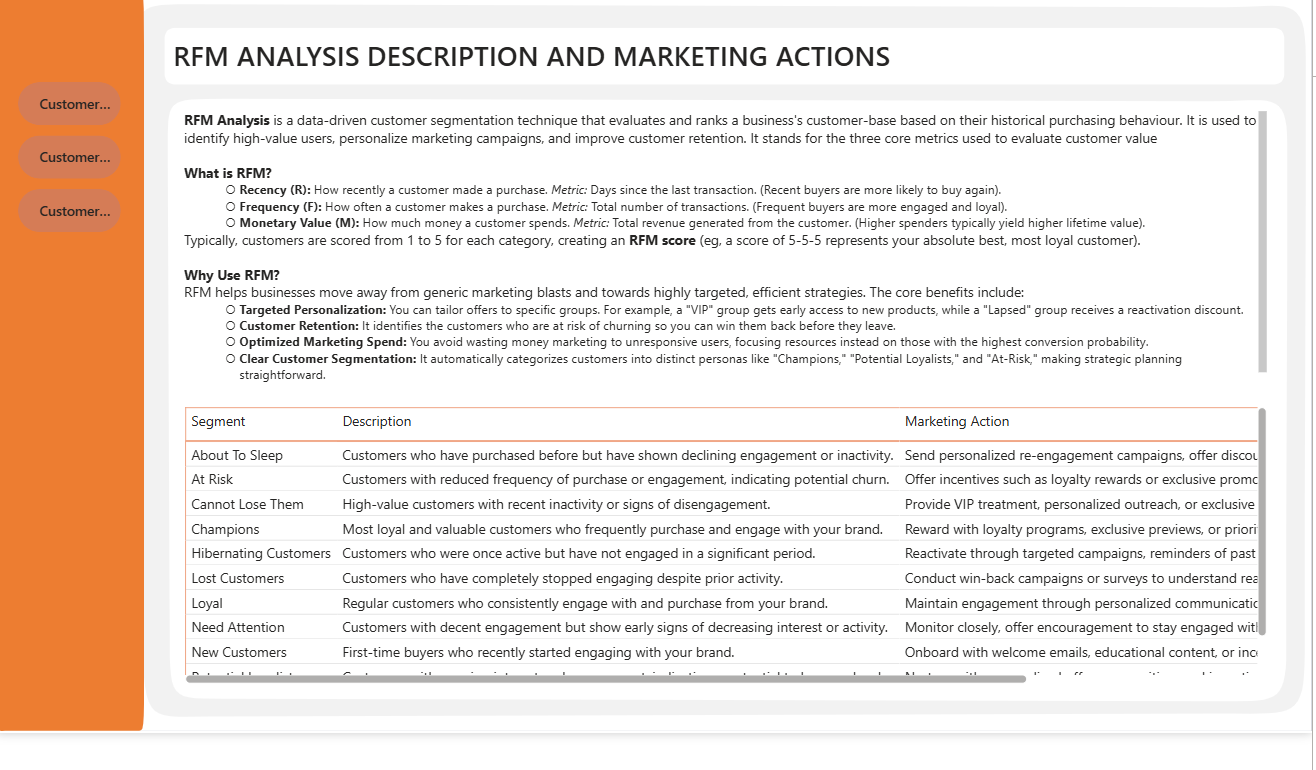

Layout of this report page (visuals, bound fields, positions):
{"tool":"powerbi","page":{"name":"Segment Description","canvas":[1280,720],"ordinal":3},"visuals":[{"type":"textbox","box":[167.3,37,747,45.7],"z":0},{"type":"textbox","box":[178,109.9,1063.1,277.2],"z":1000},{"type":"tableEx","fields":{"Values":["Segment Description.Segment","Segment Description.Description","Segment Description.Marketing Action"]},"box":[178,397.8,1063.1,279.1],"z":2000},{"type":"pageNavigator","box":[21.4,86.6,100.2,148.8],"z":3000}]}

Visuals, with their boxes on the page's 1280x720 design canvas (x1, y1, x2, y2). These are canvas units, not pixel positions in the 1316x770 screenshot, which may show the page scaled, cropped or inside an application window:
textbox: (167,37,914,83)
textbox: (178,110,1241,387)
tableEx - Segment Description.Segment x Segment Description.Description: (178,398,1241,677)
pageNavigator: (21,87,122,235)
